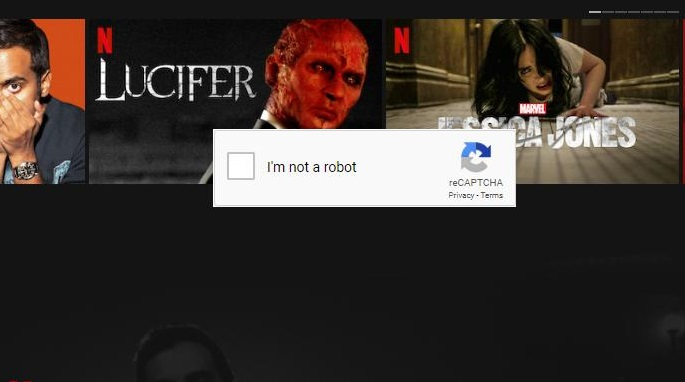captcha: (227, 152, 361, 180)
